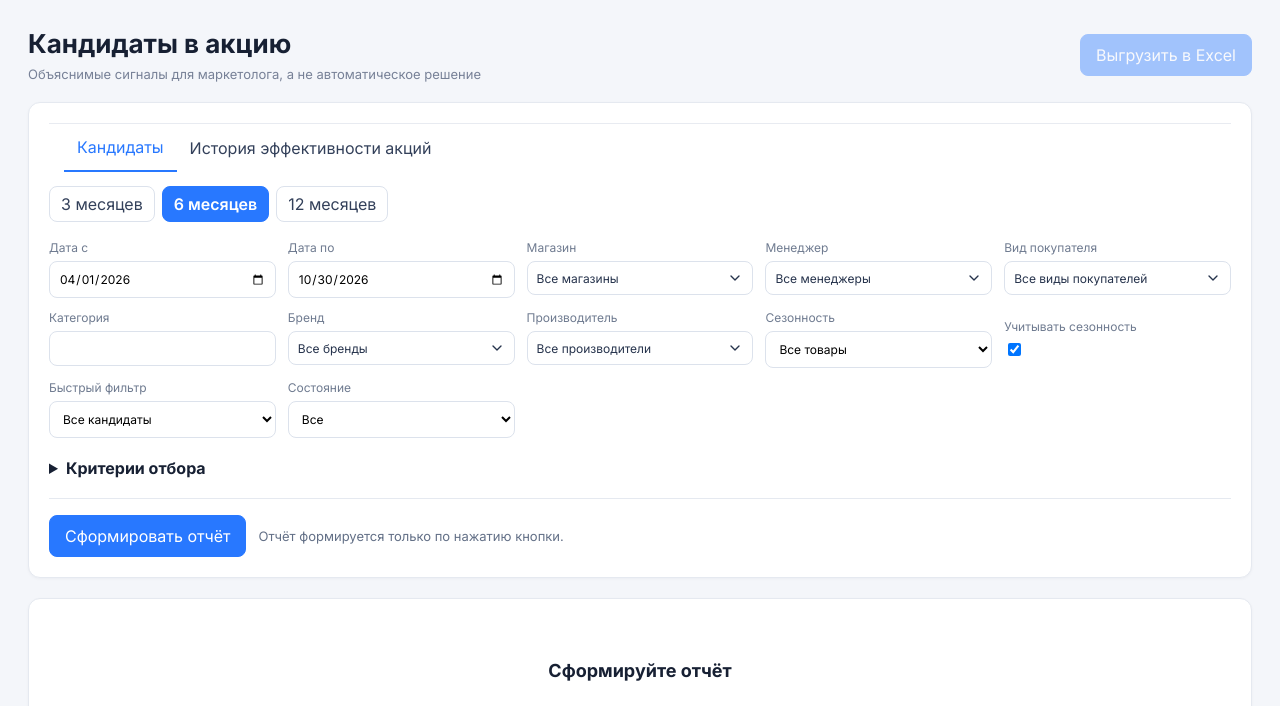
Test: shows list loading errors and only retries after explicit reopen
Click the dropdown labelled "бренд" at point(401, 348), box [288,331,515,365]
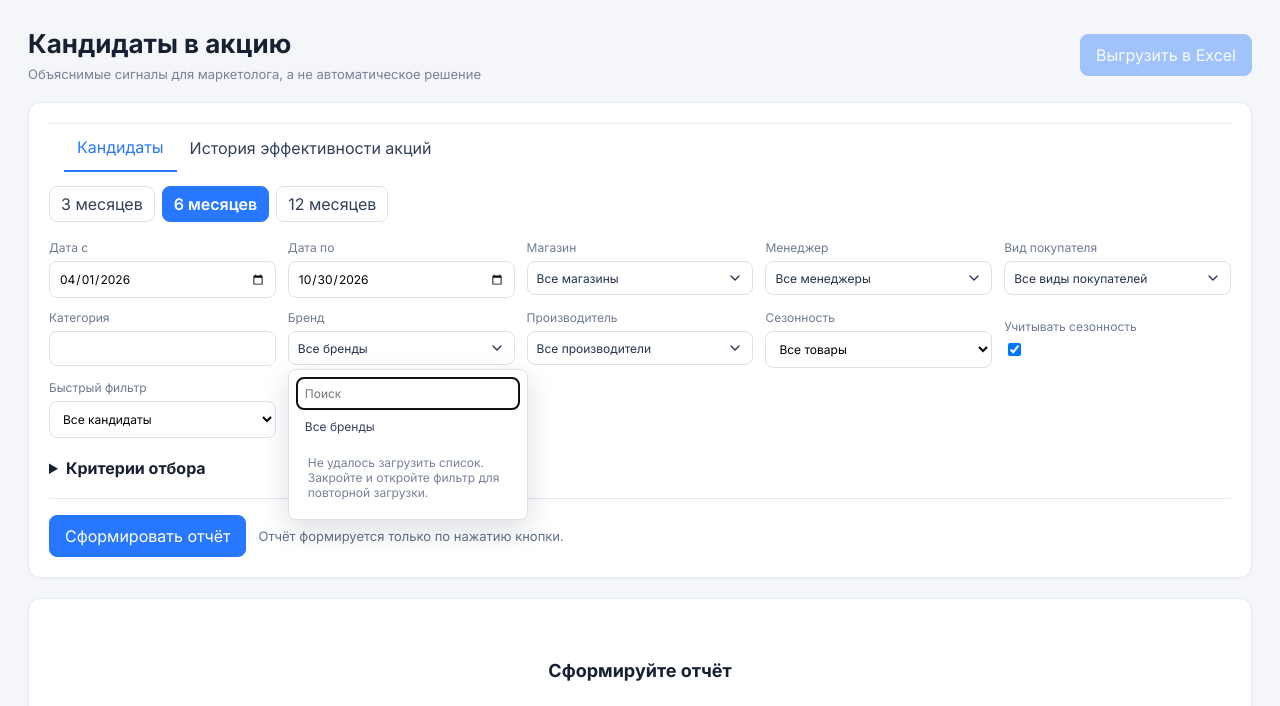
Expected: the 1st message is shown, [296,443,520,512]
Click the dropdown labelled "бренд" at point(401, 348), box [288,331,515,365]
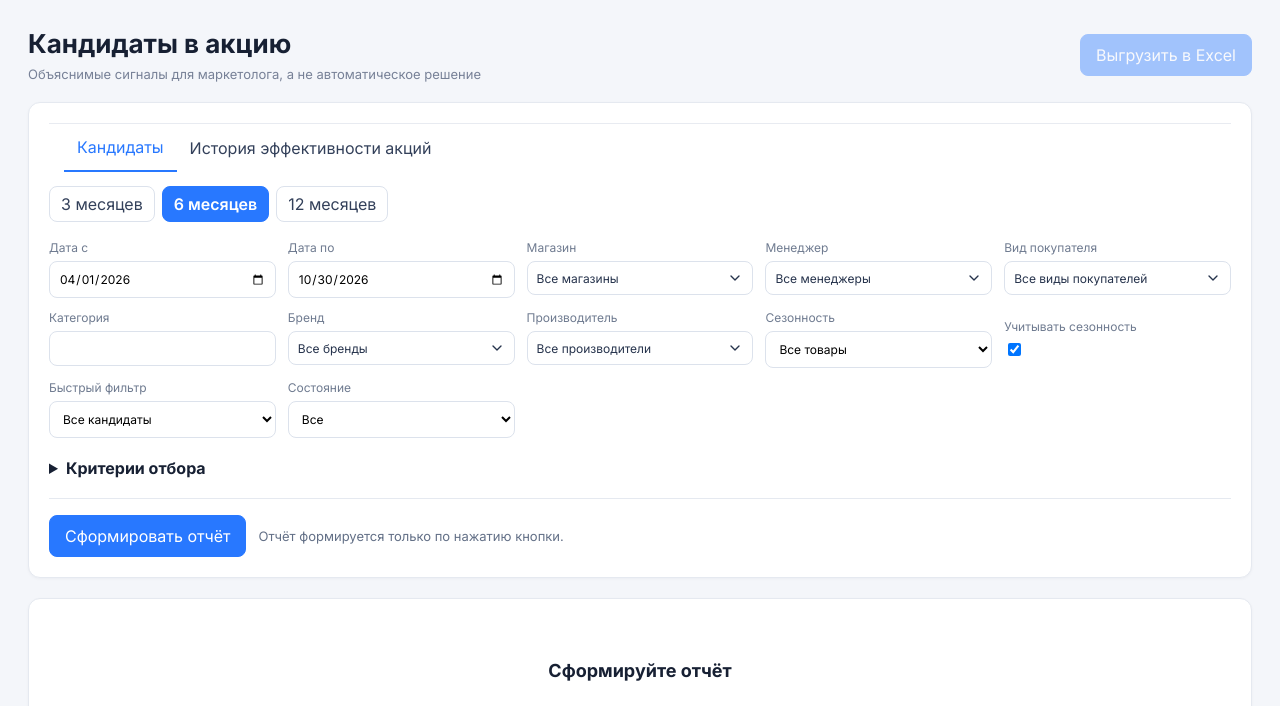
Click the dropdown labelled "бренд" at point(401, 348), box [288,331,515,365]
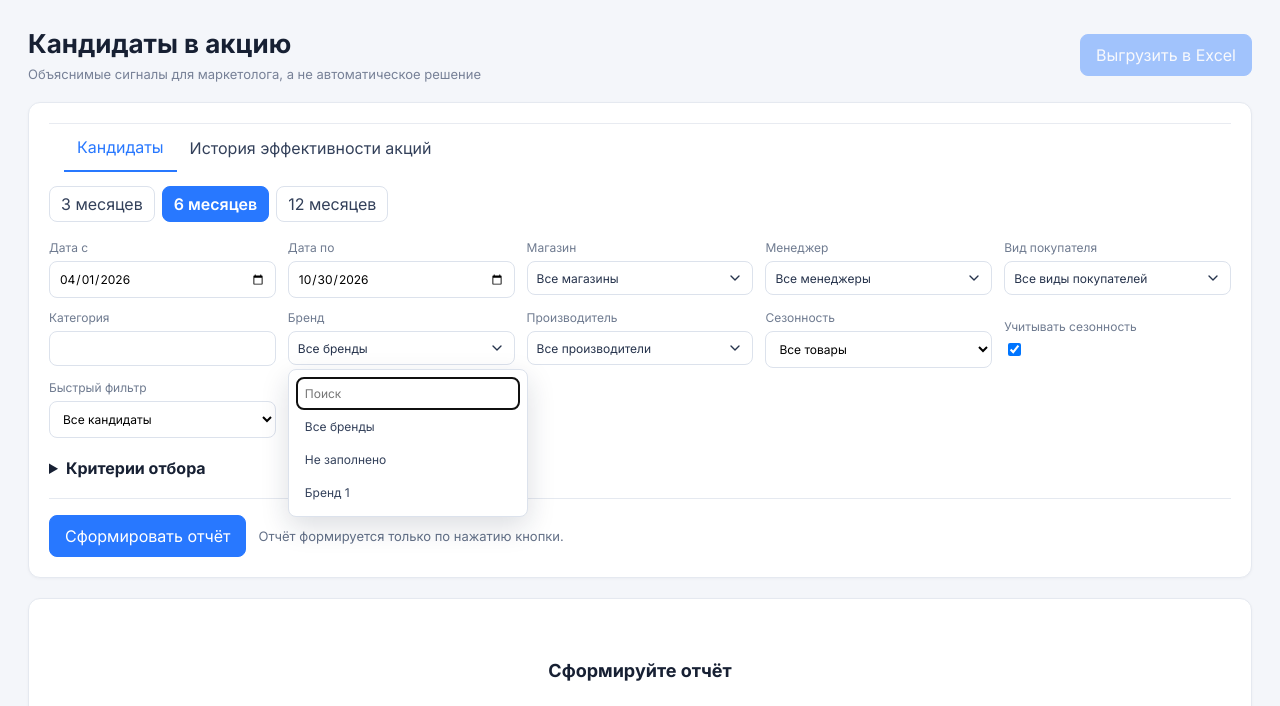
Expected: the option "Бренд 1" is shown, [296,476,520,509]
